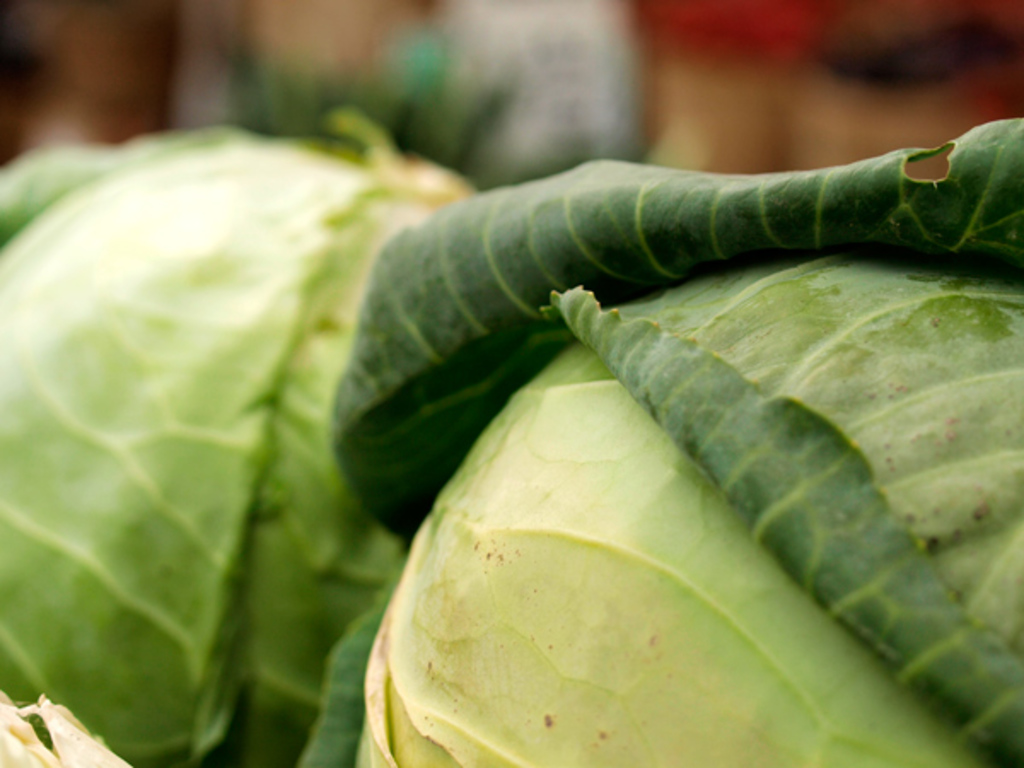Cabbage: (332, 116, 1024, 768), (0, 107, 482, 768), (0, 122, 266, 240), (0, 138, 257, 251)
